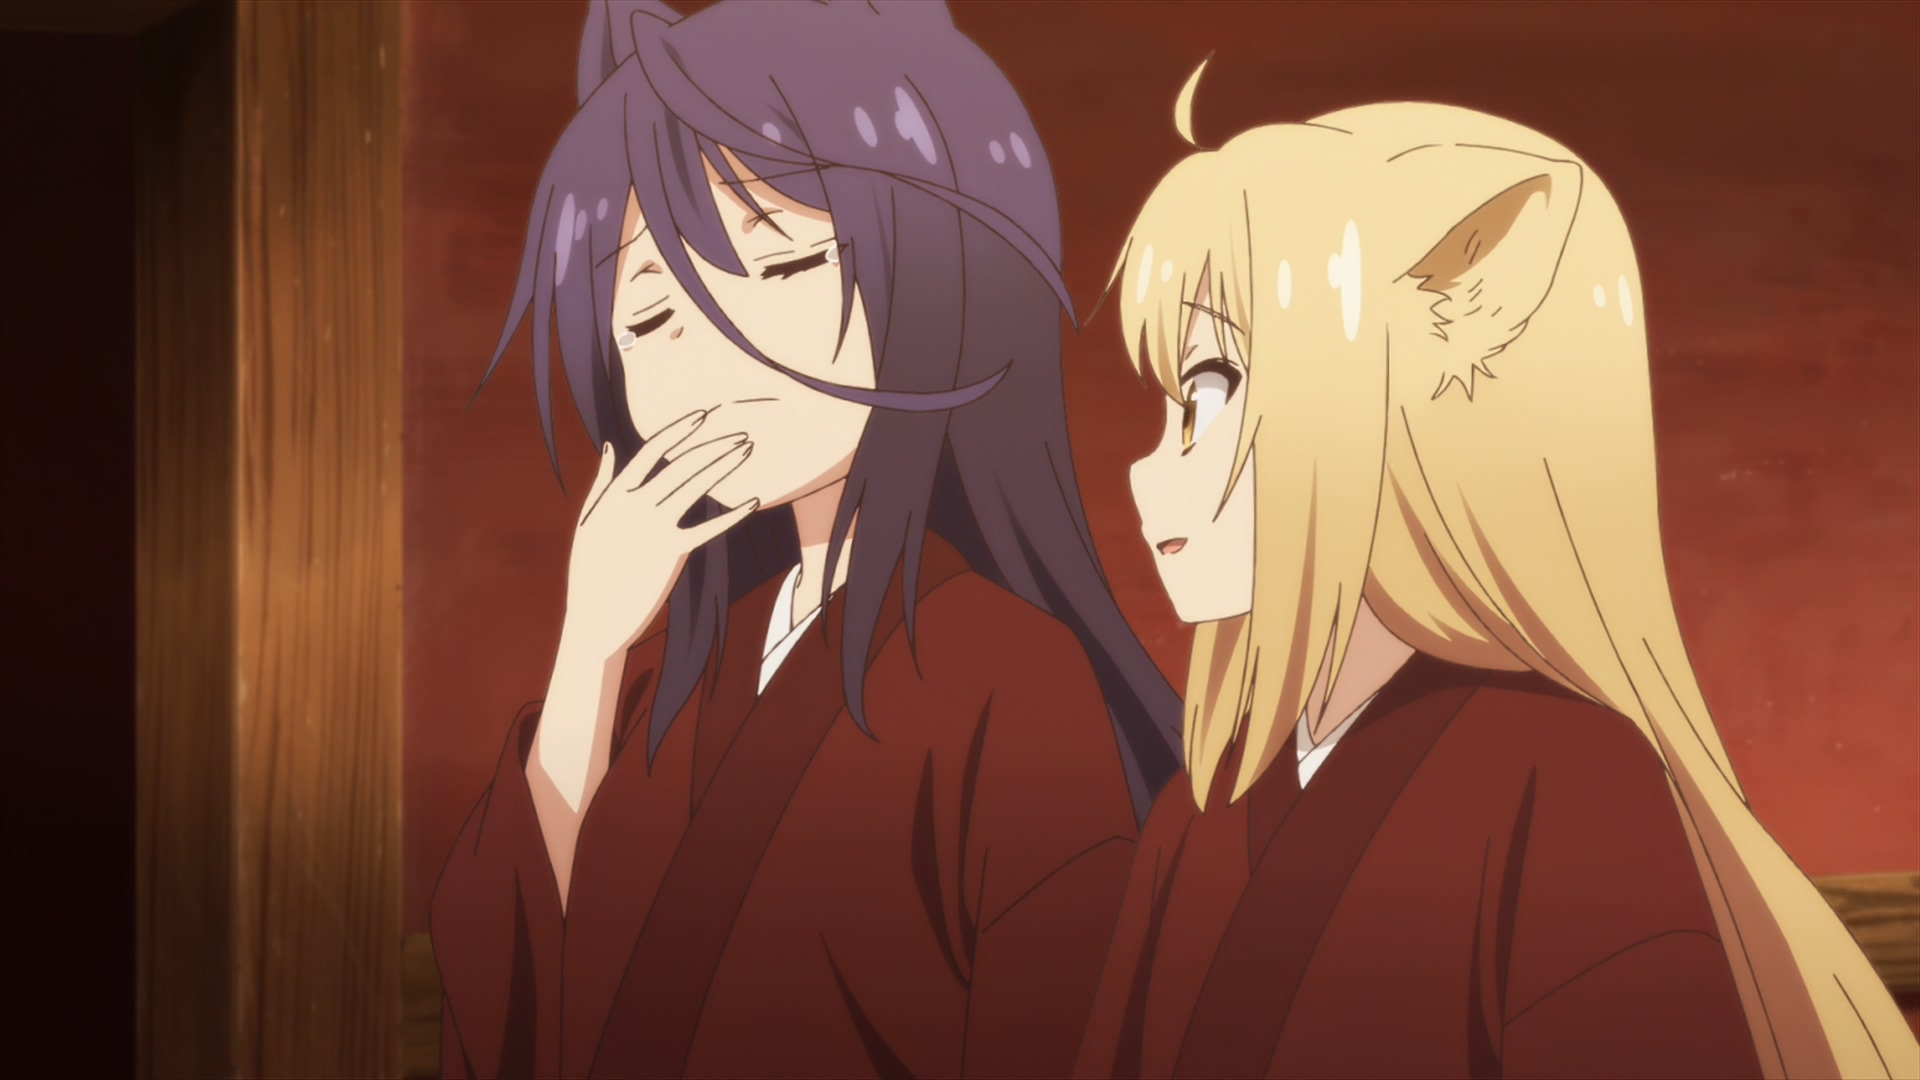柚: (1076, 54, 1920, 1080)
皋: (426, 1, 1182, 1080)
